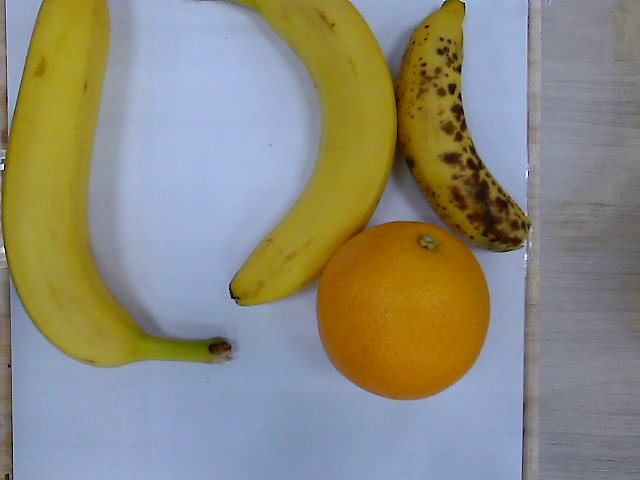fresh_banana: (5, 1, 232, 371), (228, 2, 398, 308)
fresh_orange: (316, 221, 490, 400)
rotten_banana: (395, 1, 534, 258)
